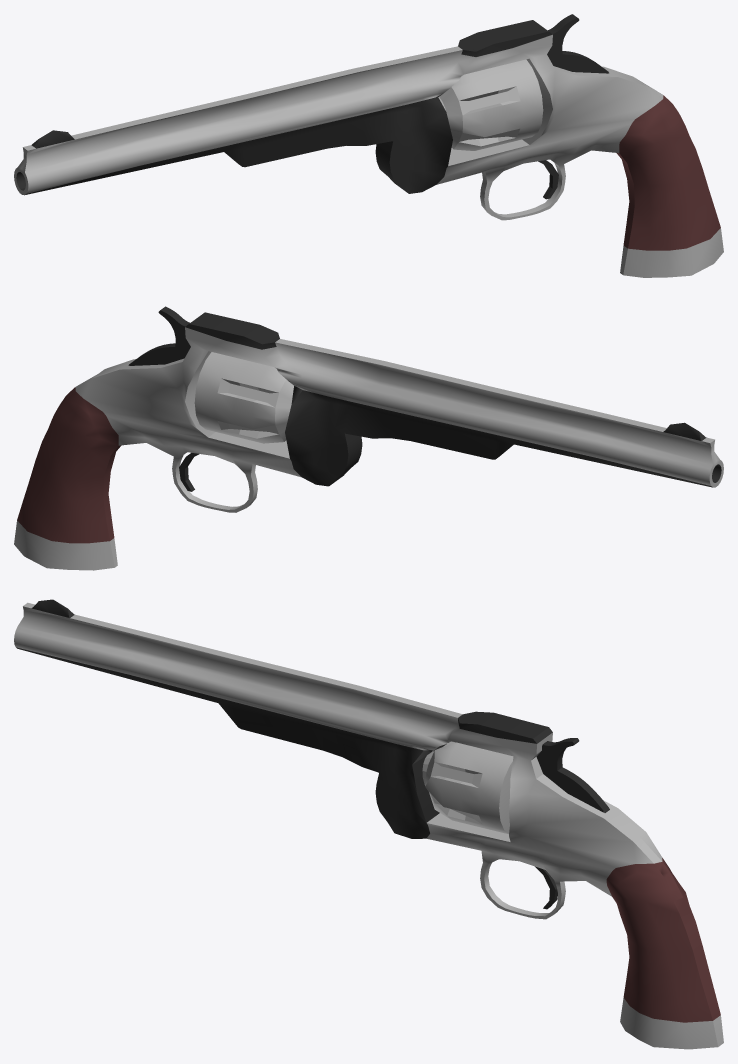
The model's file is s&wAmerican.fbx.
3 views of the same model, one above another, from view 1: azimuth 30°, elevation 25°; view 2: azimuth 150°, elevation 25°; view 3: azimuth 330°, elevation 25° (orthographic).
Visible parts, largest first — view 1: Box002, Cylinder002; view 2: Box002, Cylinder002; view 3: Box002, Cylinder002.
Part boxes in pixels (<box>): Box002: <box>14,14,723,277</box>; Cylinder002: <box>438,59,543,150</box>; Box002: <box>14,306,723,570</box>; Cylinder002: <box>194,352,293,443</box>; Box002: <box>14,599,723,1049</box>; Cylinder002: <box>422,741,513,834</box>.
Bounding box in the file's own units: 57.43 × 22.16 × 6.28.
